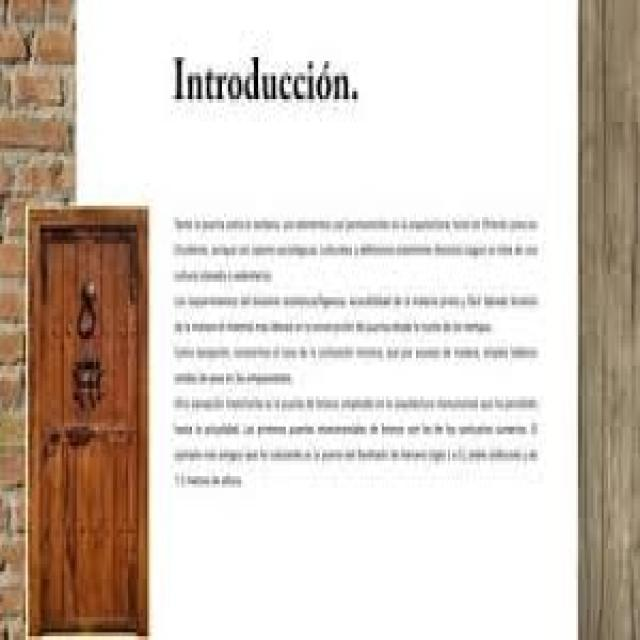door: (26, 206, 149, 636)
